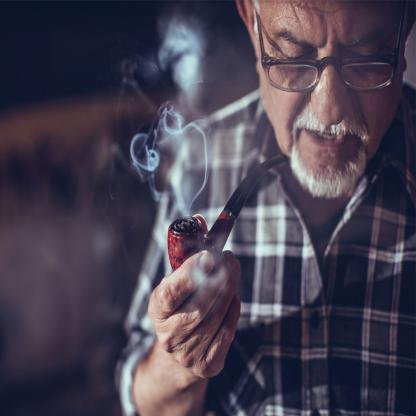smoke: (126, 0, 218, 226)
